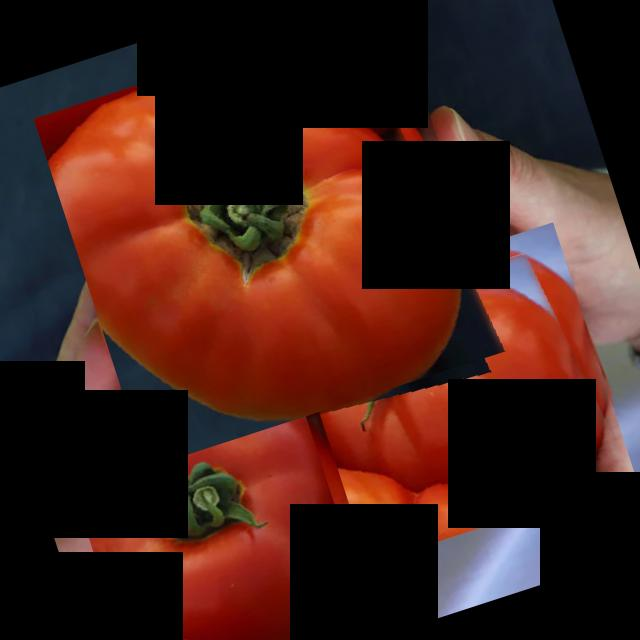tomatoes: (34, 1, 506, 468), (286, 222, 636, 564), (61, 377, 371, 640)
